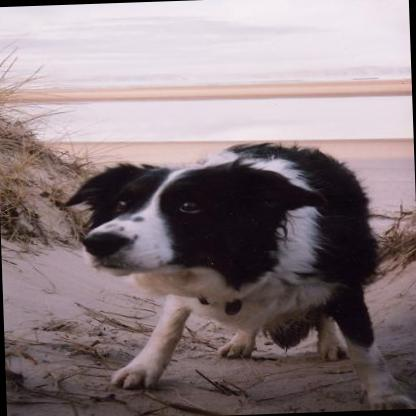Border_collie: (56, 134, 416, 416)
